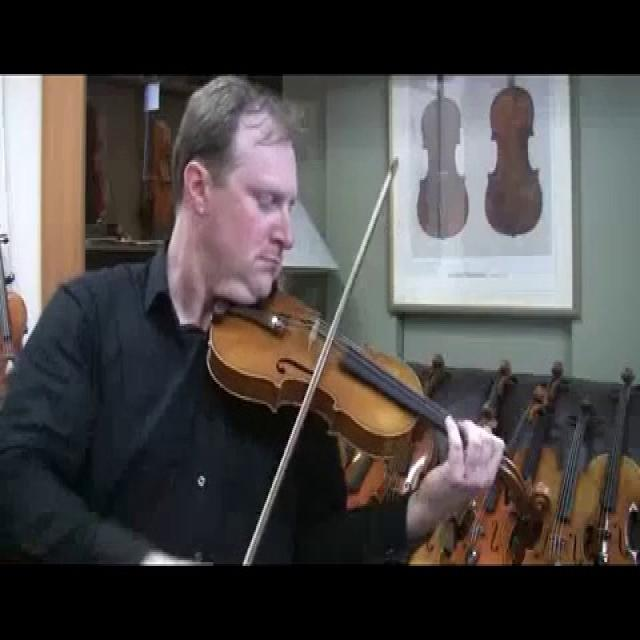Violin: (189, 269, 572, 539)
